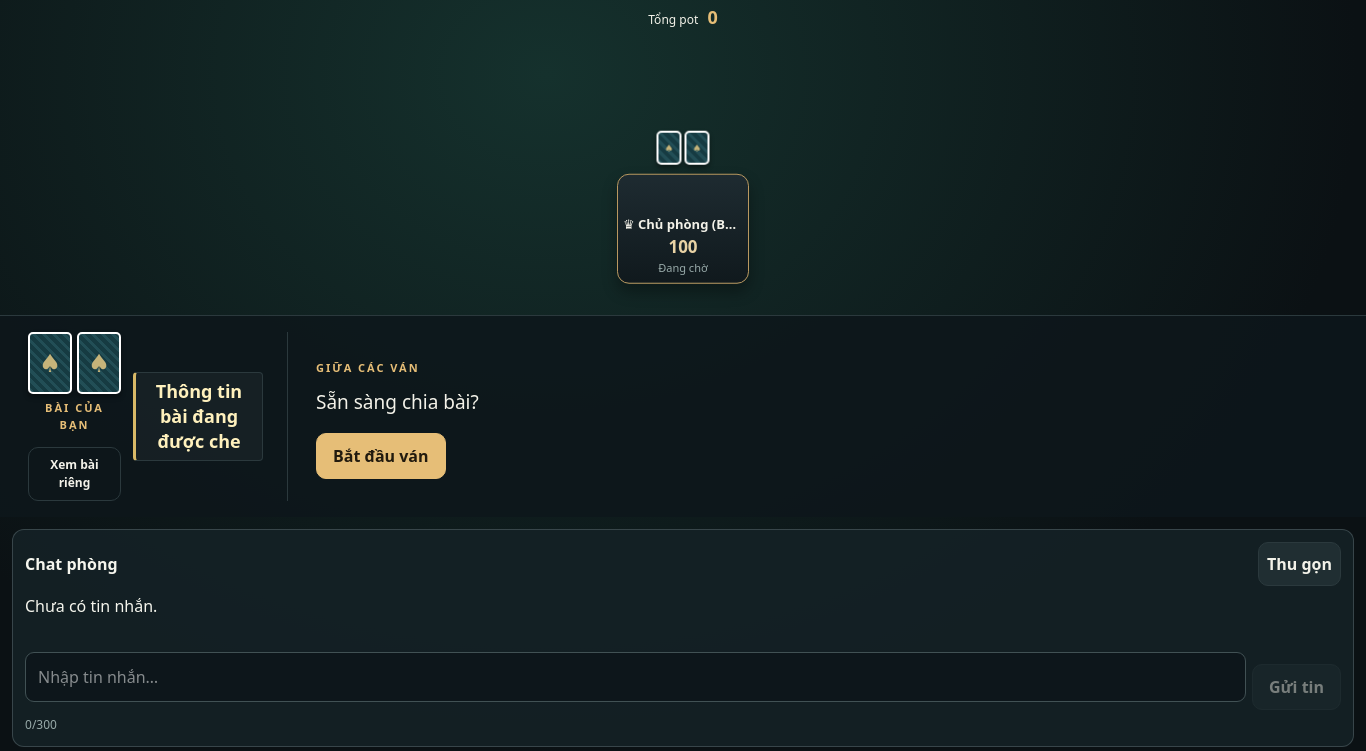
Scenario: Poker experience › keeps private card labels and hand information absent until revealed
(page scrolled)
Expected: the text "Một đôi Át" is not shown
Click the button "Xem bài riêng" at (74, 474), box [28,447,121,501]
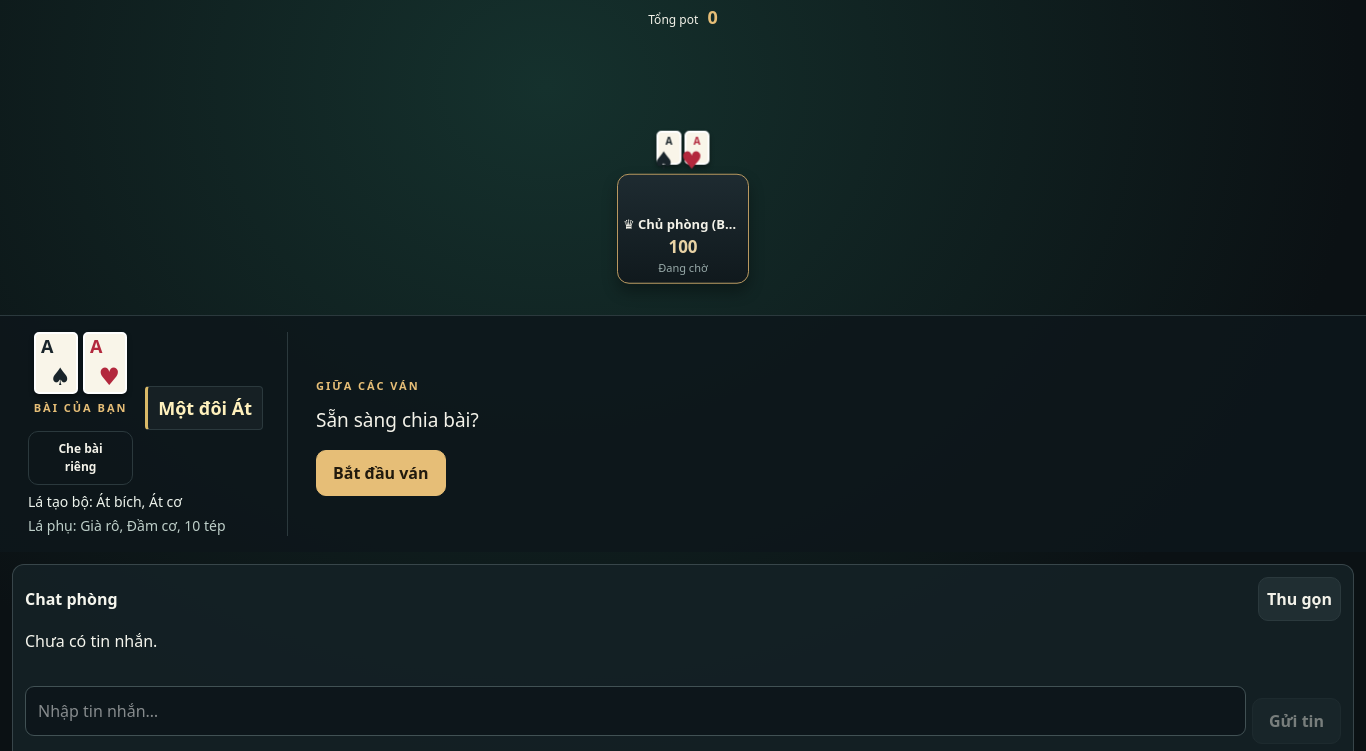
Expected: the number of elements named "AS" is 2, [656,130,682,164]; [34,332,78,394]
Expected: the text "Lá tạo bộ: Át bích, Át cơ" is shown, [28,492,226,534]
Expected: the button "Một đôi Át" is shown, [145,386,263,430]
Click the button "Che bài riêng" at (81, 458), box [28,430,133,484]
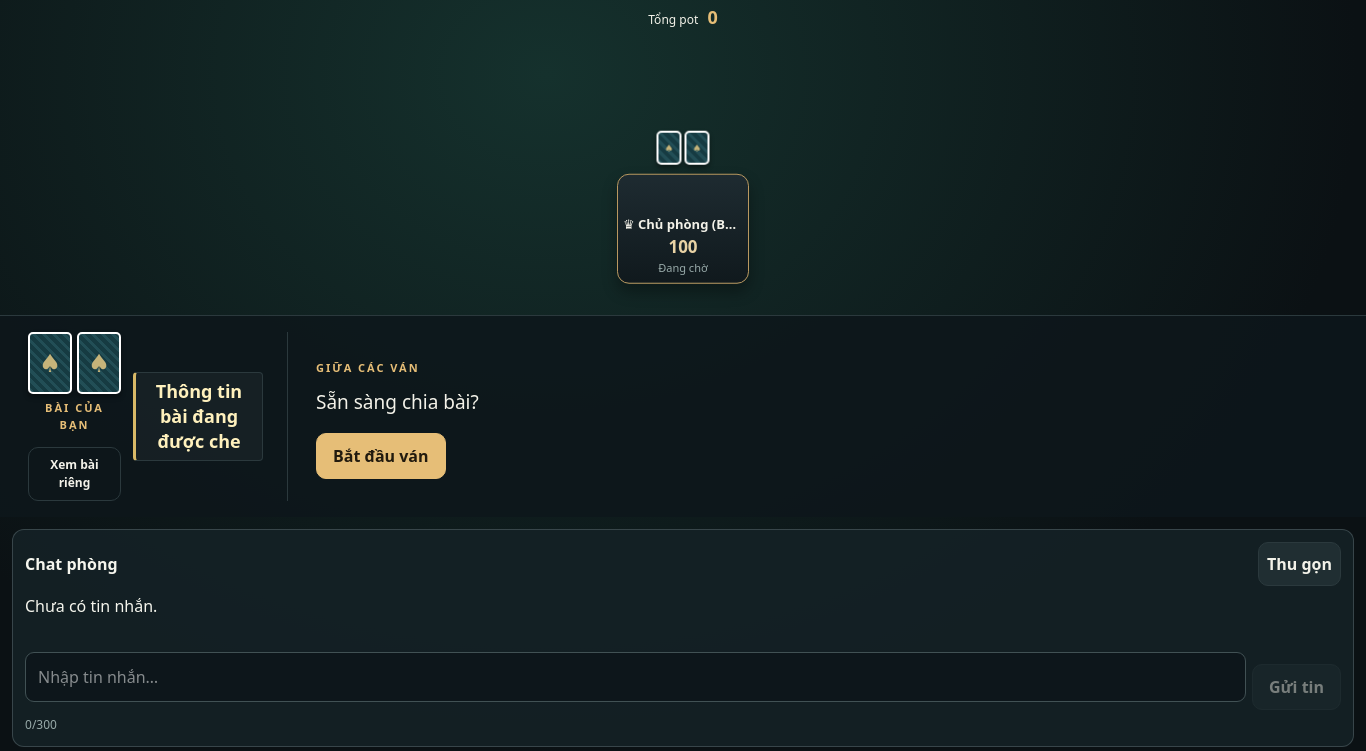
Expected: the button "Một đôi Át" is gone
